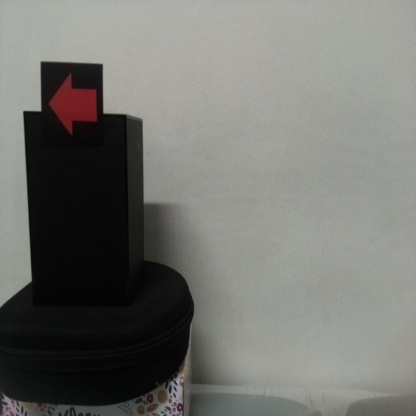id_4: (41, 63, 104, 145)
